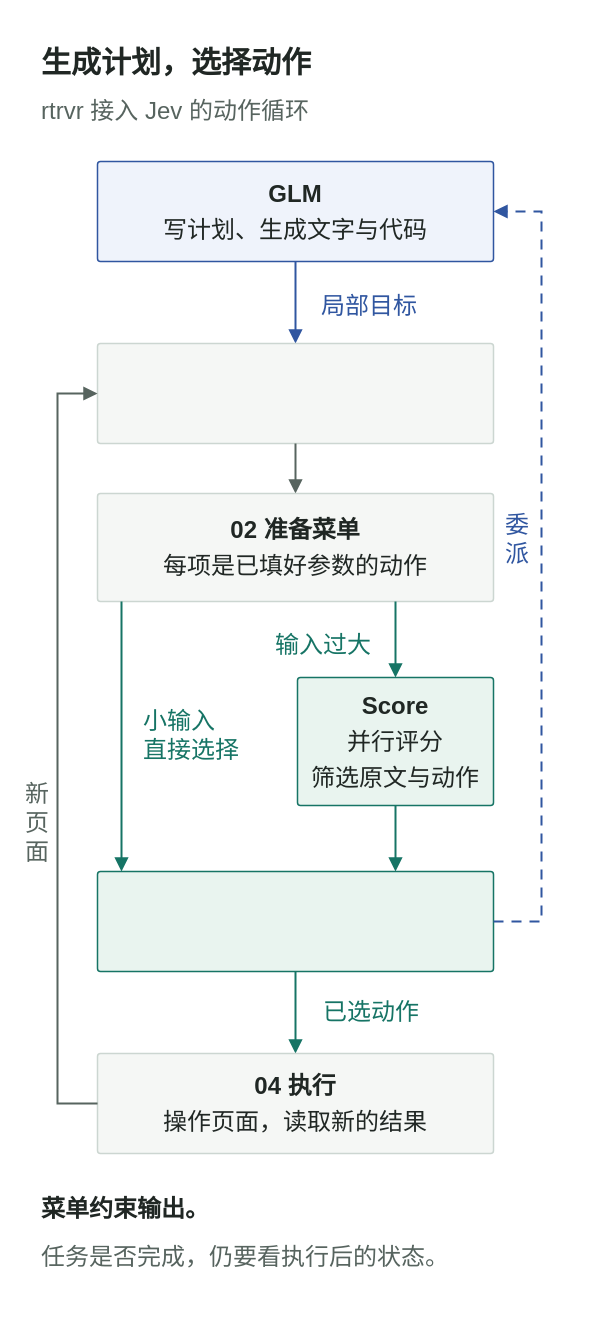
Some shapes in this 594 by 1324 pixel diagram are drawn without their labels. Here are the shapes that lost their labels. From the top down, the centre of each, then its label:
the point at 295,393: 01 观察页面 当前控件、内容、操作结果
the point at 295,921: 03 Choice 选一项动作，或 delegate
